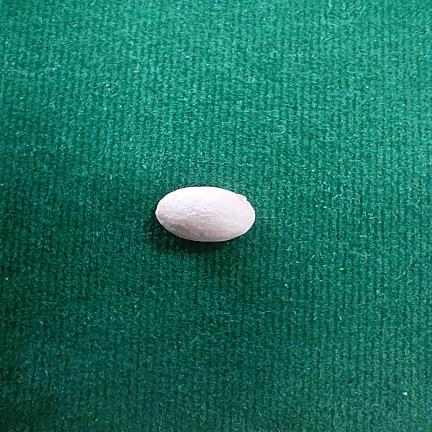immature: (156, 187, 255, 242)
